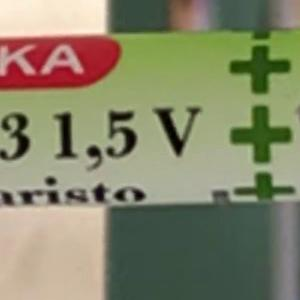keyword: (35, 97, 211, 196)
